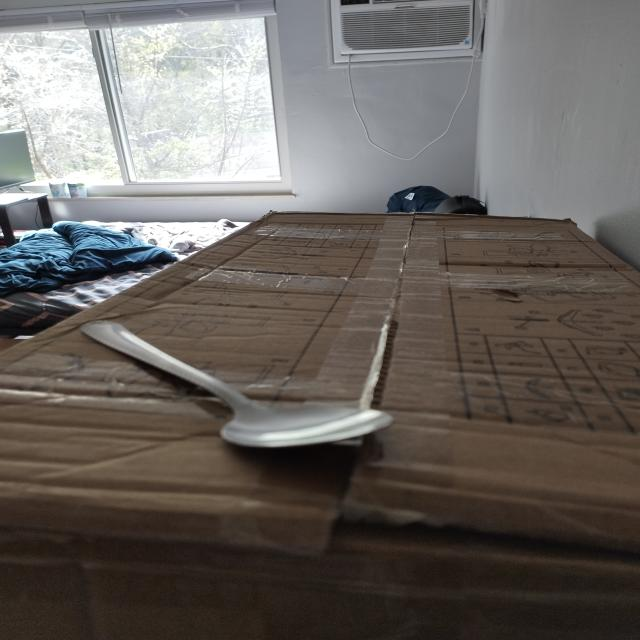Spoon: (63, 314, 410, 455)
